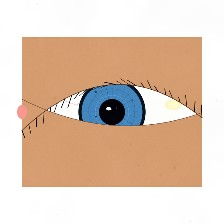pinguecula_lesion: (156, 91, 190, 119)
